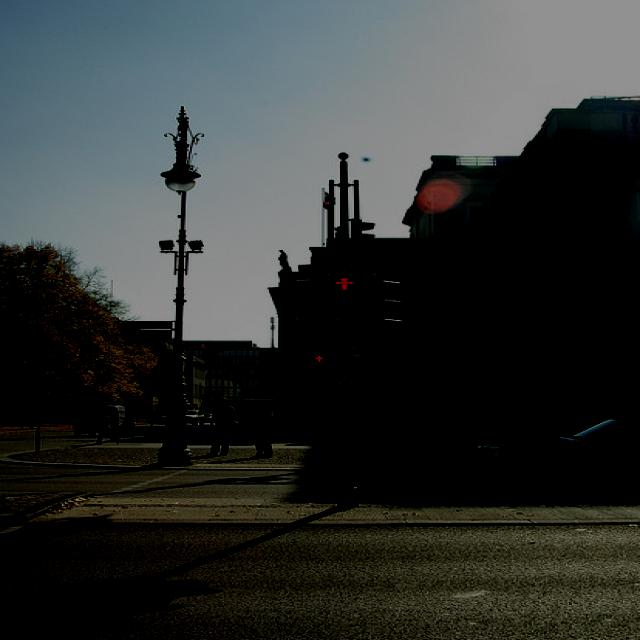Vehicle: (470, 414, 640, 484), (75, 404, 130, 436), (145, 412, 167, 425), (187, 410, 204, 426), (202, 414, 212, 422)
